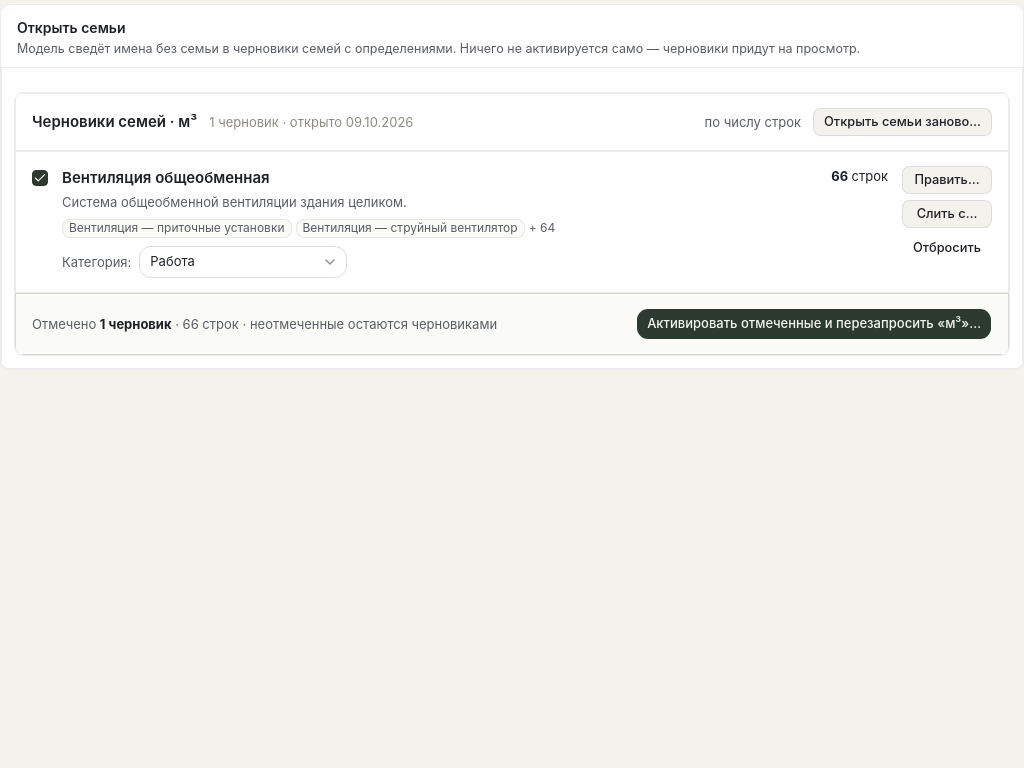
Test: DiscoveryBlock — черновики и перезапрос › повторный запуск с тем же входом: отказ discovery_input_unchanged показан подписью, окно остаётся
The width and height of the screenshot is (1024, 768).
Click the button "Открыть семьи заново…" at (902, 122), box top-left (813, 108), bottom-right (992, 136)
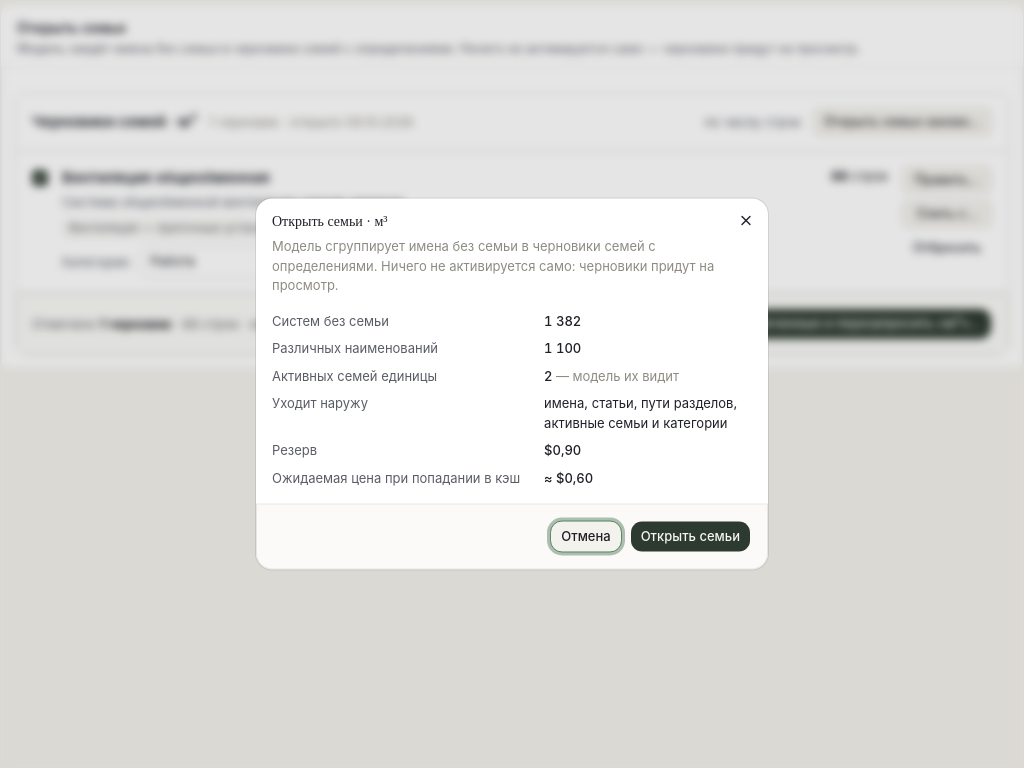
Check: the text "$0,90" is shown, box top-left (544, 442), bottom-right (581, 458)
Click the button "Открыть семьи" at (690, 536), box top-left (630, 520), bottom-right (751, 552)
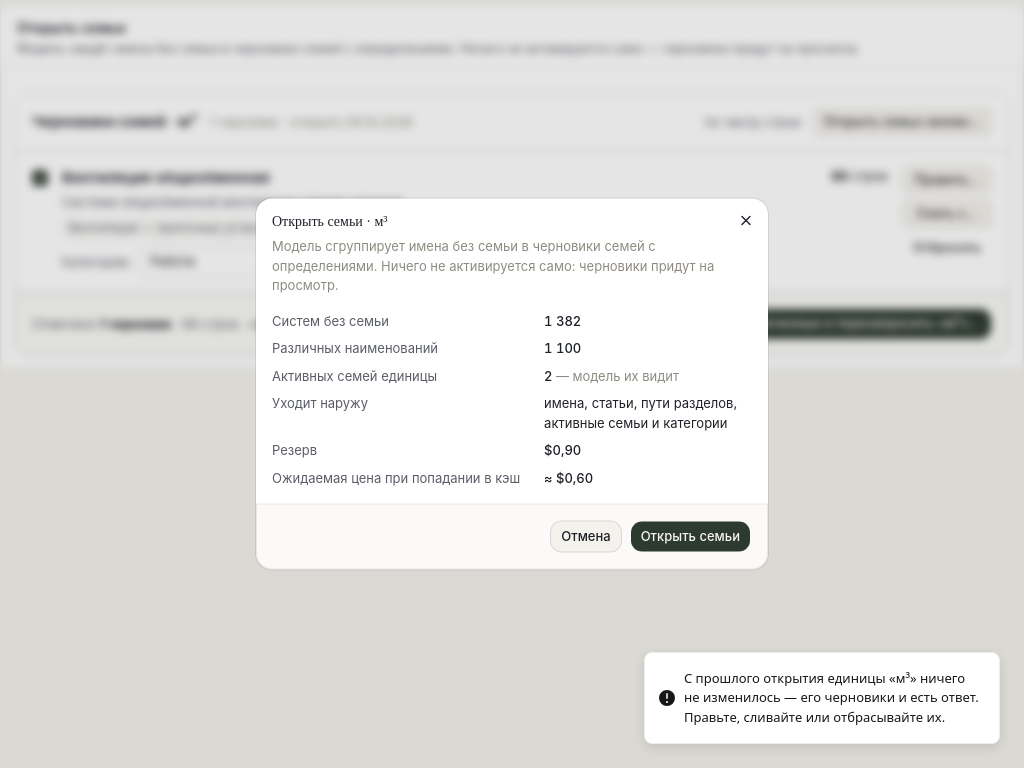
Check: the dialog is shown, box top-left (256, 198), bottom-right (768, 570)
Check: the text "С прошлого открытия единицы «м³» ничего не изменилось — его черновики и есть ответ. Правьте, сливайте или отбрасывайте и" is shown, box top-left (684, 668), bottom-right (979, 726)
